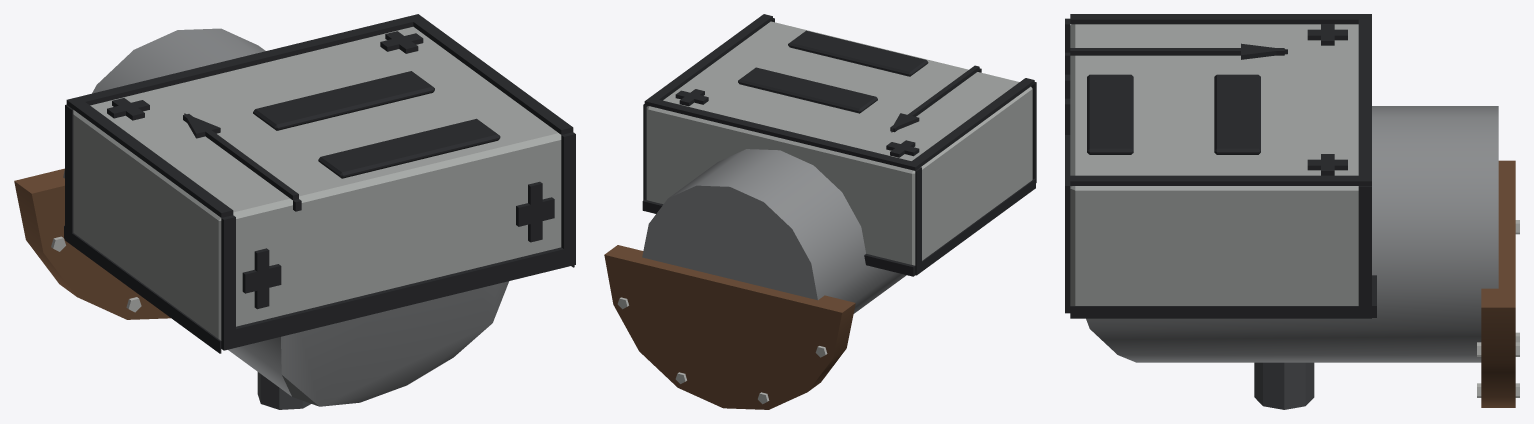
File: one-way-valve.glb
3 views of the same model, side by side, from view 1: azimuth 30°, elevation 25°; view 2: azimuth 150°, elevation 25°; view 3: azimuth 270°, elevation 25° (orthographic). The views are drawn at different scales.
Visible parts, largest first — view 1: body; view 2: body; view 3: body.
Boxes of the visible parts, <box> form: body: <box>14,14,575,409</box>; body: <box>604,14,1036,409</box>; body: <box>1065,14,1519,409</box>.
Size of the model in its own units: 0.932 by 0.776 by 1.06.
